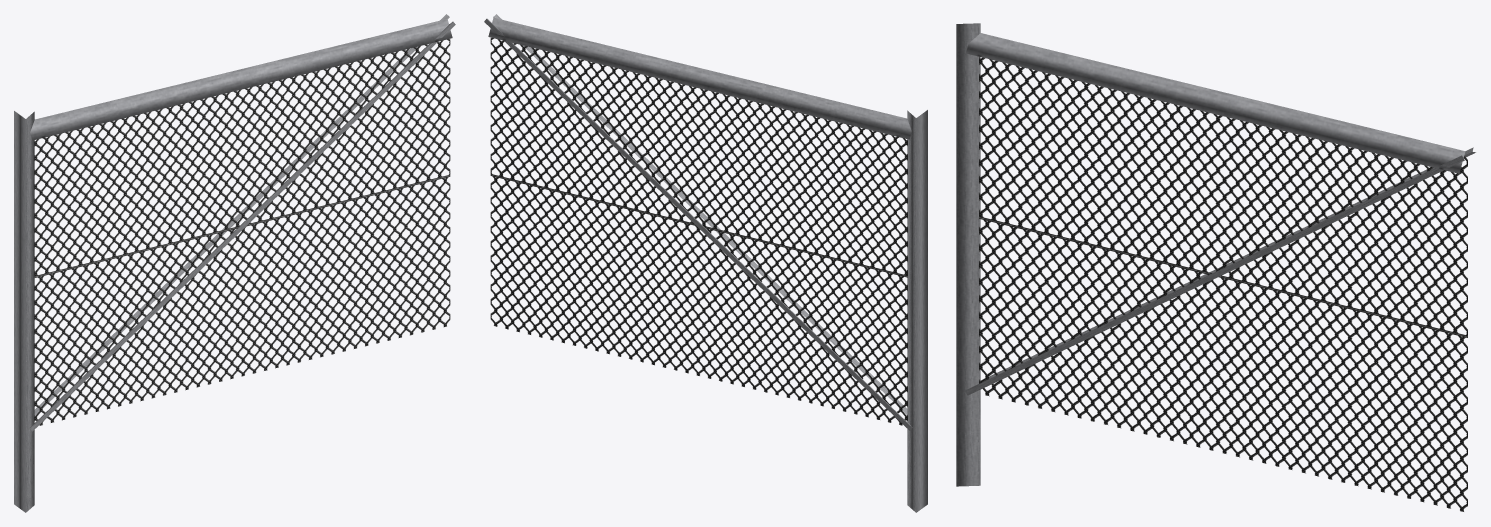
Rendered from fence-tall-chainlink-start-cbj_LOD02.gltf.
3 renders of one model, left to right at view 1: azimuth 30°, elevation 25°; view 2: azimuth 150°, elevation 25°; view 3: azimuth 330°, elevation 25°, orthographic. The views are drawn at different scales.
Visible parts, largest first — view 1: Cube02; view 2: Cube02; view 3: Cube02.
Boxes of the visible parts, x1=… form: Cube02: x1=14, y1=14, x2=455, y2=512; Cube02: x1=484, y1=14, x2=927, y2=512; Cube02: x1=956, y1=23, x2=1475, y2=511.
Size of what is drawn, in the model's own units: 2.68 by 2.33 by 0.1252.
